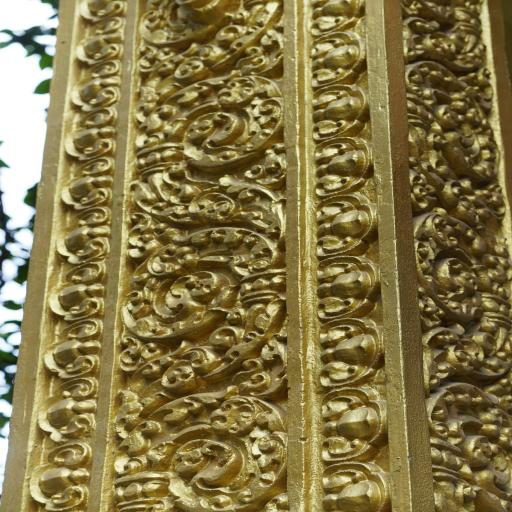la: (124, 226, 286, 383), (139, 74, 296, 226), (118, 387, 288, 512), (399, 61, 506, 209), (406, 208, 512, 350), (128, 0, 294, 78), (422, 380, 512, 512), (308, 391, 402, 466), (398, 0, 486, 72), (312, 318, 391, 388), (310, 252, 381, 318), (31, 442, 98, 511), (305, 194, 381, 254), (44, 260, 110, 328), (28, 378, 107, 434), (31, 316, 102, 378), (303, 32, 374, 88), (310, 139, 378, 197), (48, 208, 114, 266), (316, 461, 391, 510), (307, 86, 377, 134), (59, 152, 113, 212), (297, 0, 369, 39), (65, 110, 116, 164), (69, 22, 126, 68), (73, 63, 122, 115), (69, 0, 130, 29)
